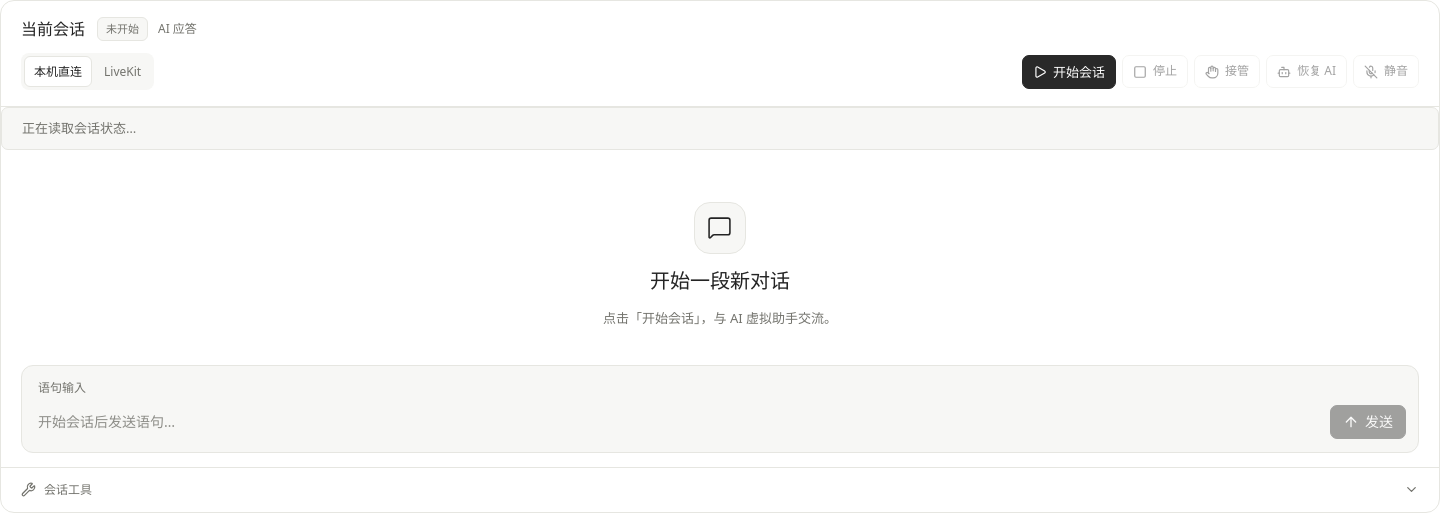
Scenario: WorkspaceSession › starts a session and shows the listening phase
Step 1. Click the button "开始会话" → (1069, 72), box [1022, 54, 1116, 89]
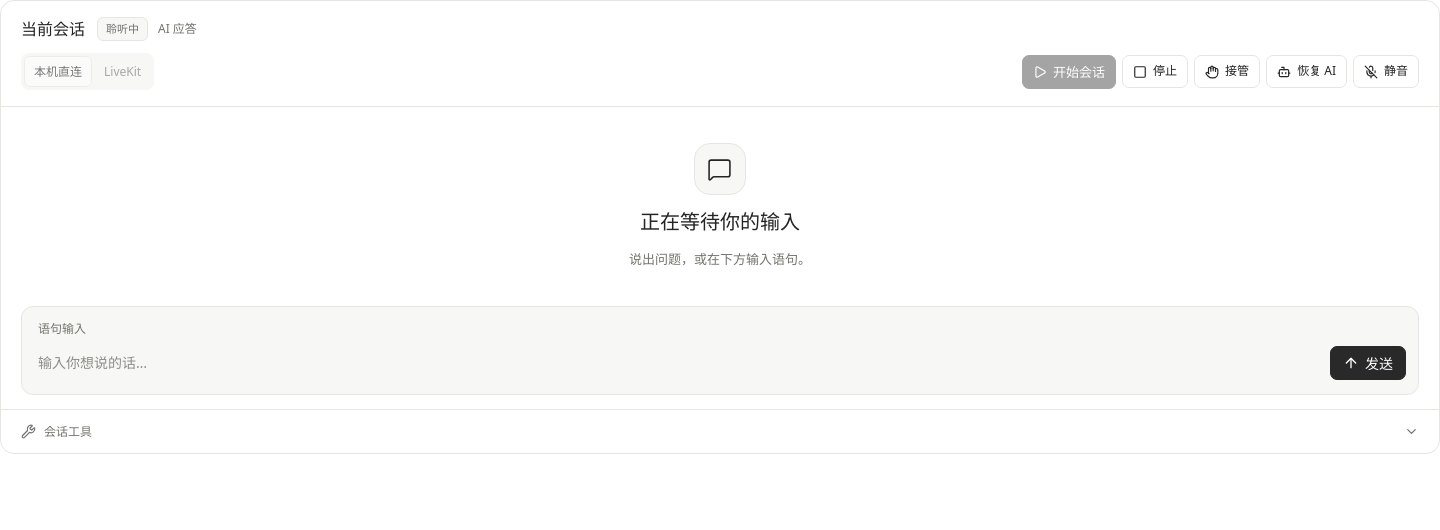
Result: the text "聆听中" is shown at [97, 17, 148, 41]
Result: the button "开始会话" is disabled at [1022, 54, 1116, 89]
Result: the button "停止" is enabled at [1122, 55, 1188, 88]
